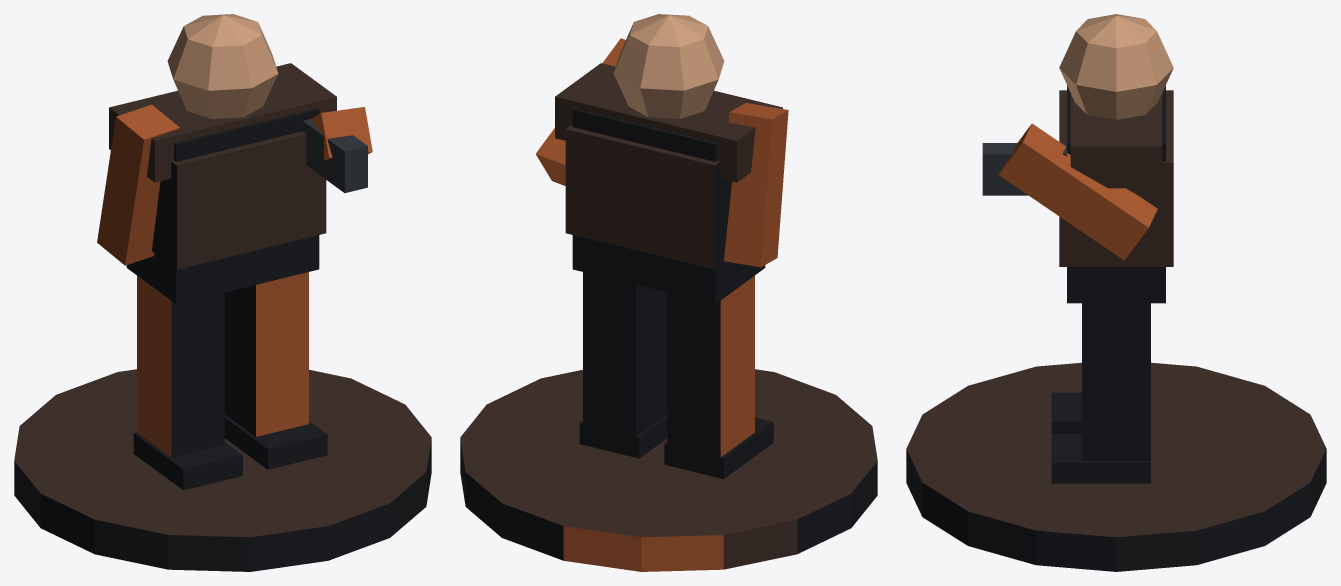
Rendered from rioter_gunner.glb.
3 views of the same model, side by side, from view 1: azimuth 30°, elevation 25°; view 2: azimuth 150°, elevation 25°; view 3: azimuth 270°, elevation 25° (orthographic).
Parts seen in each view (by area): view 1: rioter_gunner; view 2: rioter_gunner; view 3: rioter_gunner.
Boxes of the visible parts, bbox=[...] form: rioter_gunner: bbox=[14, 14, 431, 571]; rioter_gunner: bbox=[460, 14, 877, 571]; rioter_gunner: bbox=[906, 14, 1326, 571].
Bounding box in the file's own units: 1.1 × 1.35 × 1.1.
